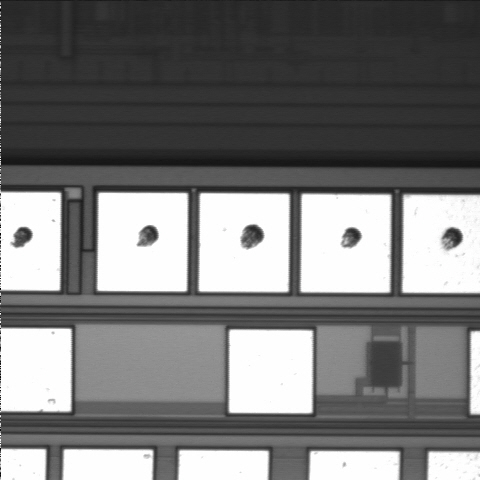pad: (97, 193, 188, 291), (199, 193, 289, 292), (301, 194, 391, 293), (229, 330, 313, 413)
